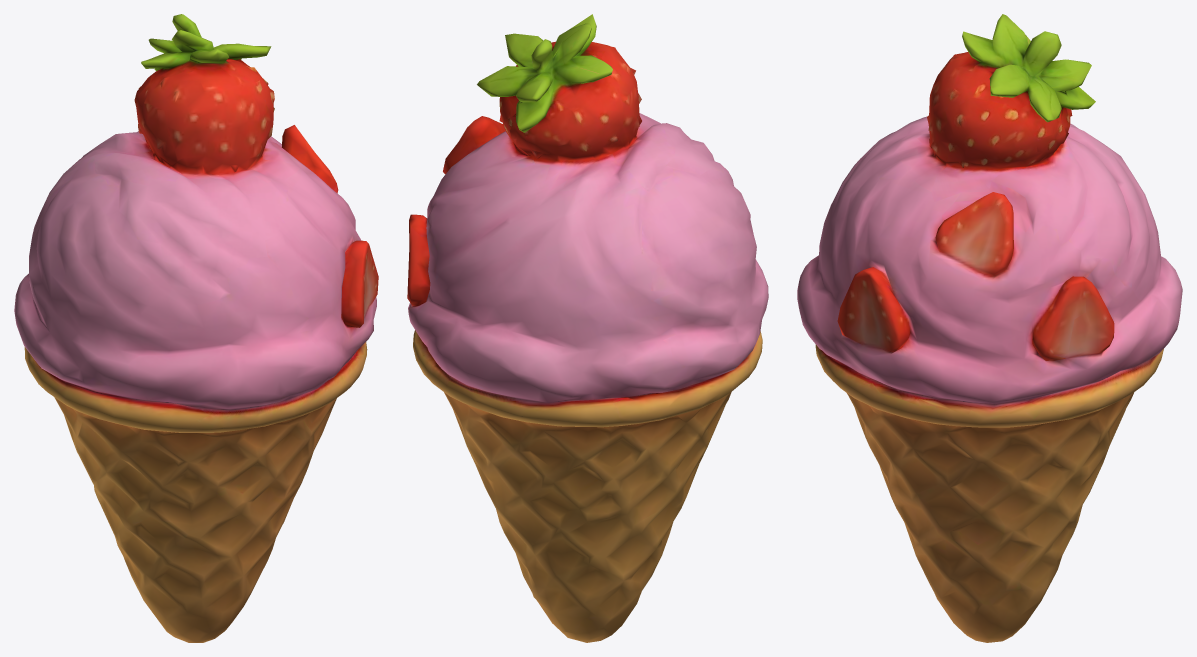
File: food_ice_cream.glb
3 views of the same model, side by side, from view 1: azimuth 30°, elevation 25°; view 2: azimuth 150°, elevation 25°; view 3: azimuth 270°, elevation 25° (orthographic). The views are drawn at different scales.
Visible parts, largest first — view 1: tripo_node_9c57d5ec-564e-4df4-a4fa-d72e2122e685; view 2: tripo_node_9c57d5ec-564e-4df4-a4fa-d72e2122e685; view 3: tripo_node_9c57d5ec-564e-4df4-a4fa-d72e2122e685.
Boxes of the visible parts, left/top/right/bottom form: tripo_node_9c57d5ec-564e-4df4-a4fa-d72e2122e685: left=14, top=14, right=378, bottom=642; tripo_node_9c57d5ec-564e-4df4-a4fa-d72e2122e685: left=407, top=14, right=768, bottom=642; tripo_node_9c57d5ec-564e-4df4-a4fa-d72e2122e685: left=797, top=14, right=1182, bottom=642.
Bounding box in the file's own units: 0.0795 × 0.15 × 0.0844.
1 material, 1 textured.
